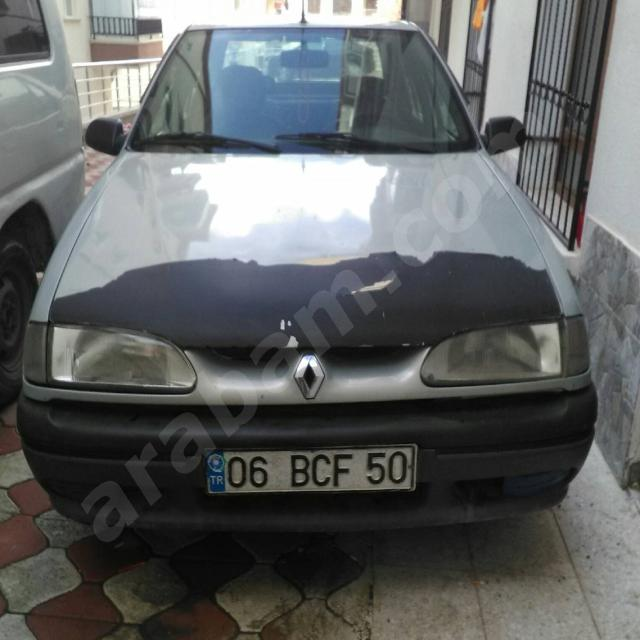license_plate: (203, 445, 414, 492)
